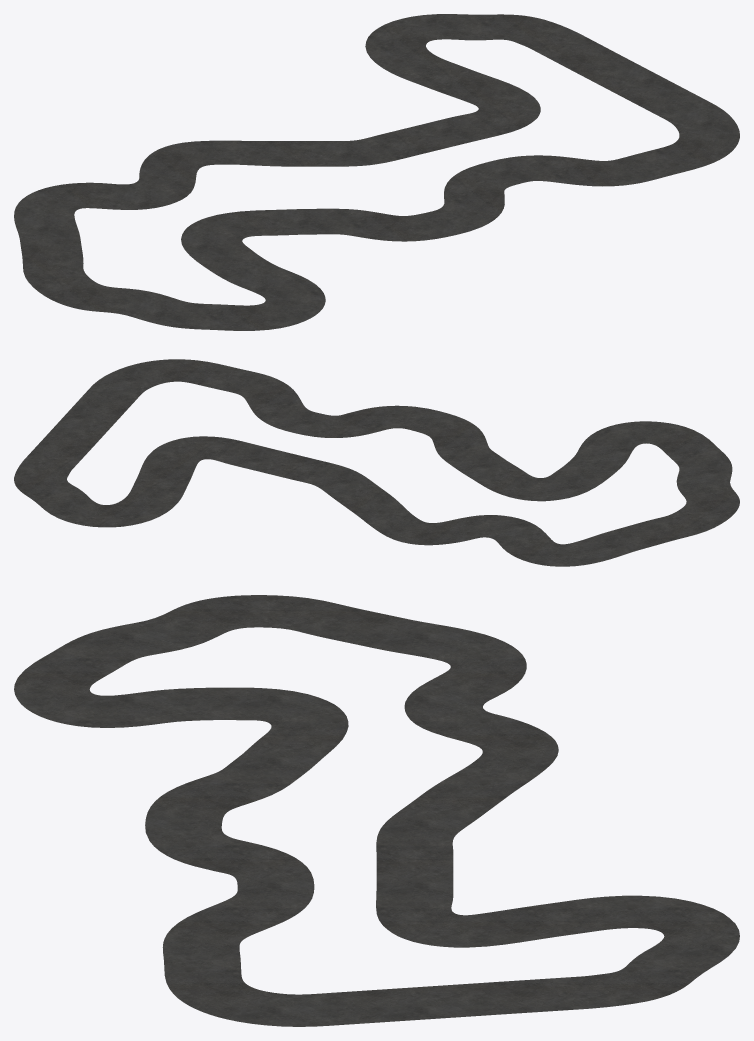
The model's file is Singapore_track_road.dae.
3 renders of one model, top to bottom at view 1: azimuth 30°, elevation 25°; view 2: azimuth 150°, elevation 25°; view 3: azimuth 270°, elevation 25°, orthographic. The views are drawn at different scales.
Visible parts, largest first — view 1: road; view 2: road; view 3: road.
Part boxes in pixels (bbox=[...]): road: bbox=[14, 14, 739, 330]; road: bbox=[14, 359, 739, 566]; road: bbox=[14, 595, 739, 1026].
Bounding box in the file's own units: 19.27 × 13.69 × 0.
1 material, 1 textured.
